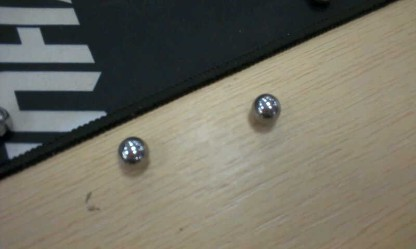ironball: (117, 136, 149, 170), (250, 93, 281, 125), (0, 106, 12, 137)
